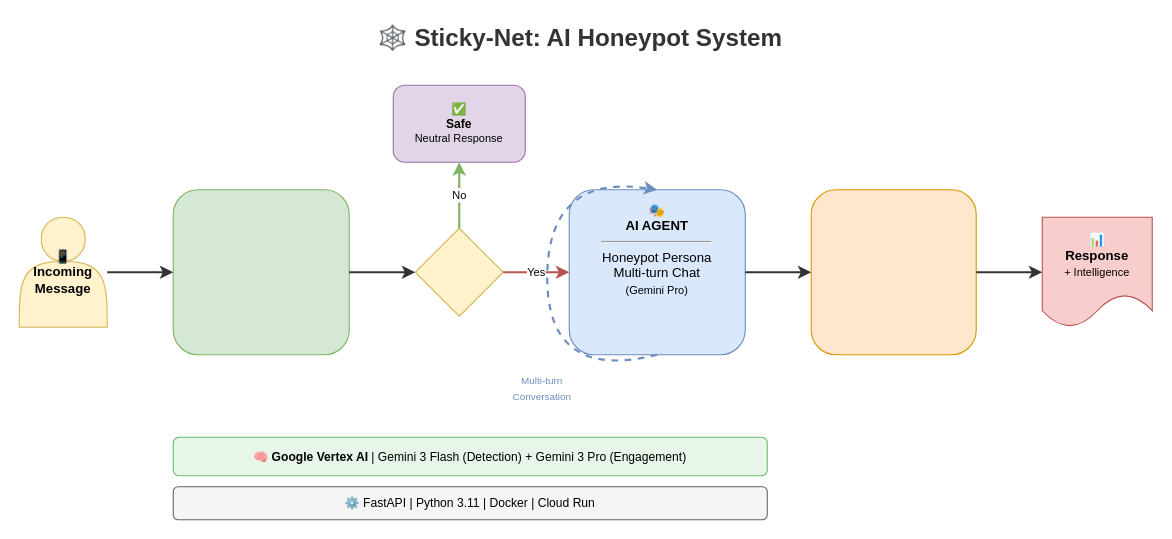
This 1172x539 diagram has some shape labels left out. Here are the shapes that lost their labels. From the top down, the box of each, then its label:
(172, 189, 349, 355): 🔍 SCAM DETECTION Regex Pre-Filter + AI Classifier (Gemini Flash)
(414, 227, 503, 316): Scam?
(810, 189, 976, 355): 🔎 INTEL EXTRACTION Bank Accounts UPI IDs Phone Numbers Phishing URLs
